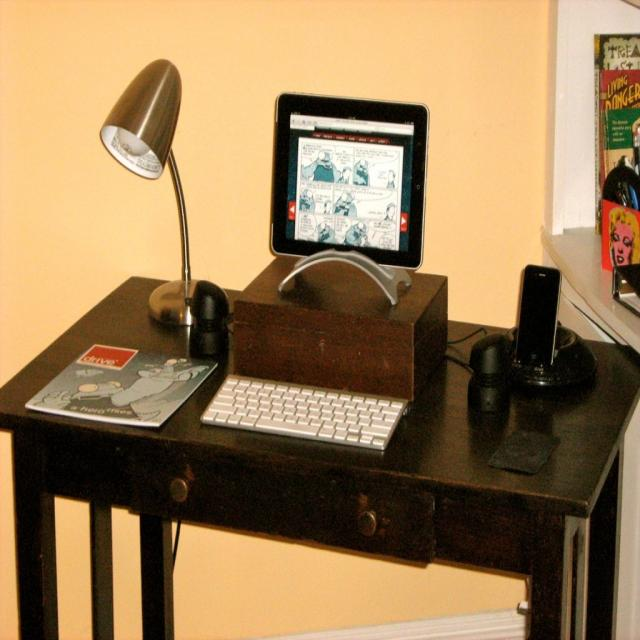desk: (0, 275, 639, 639)
keyboard: (200, 371, 407, 456)
tv: (269, 94, 429, 268)
